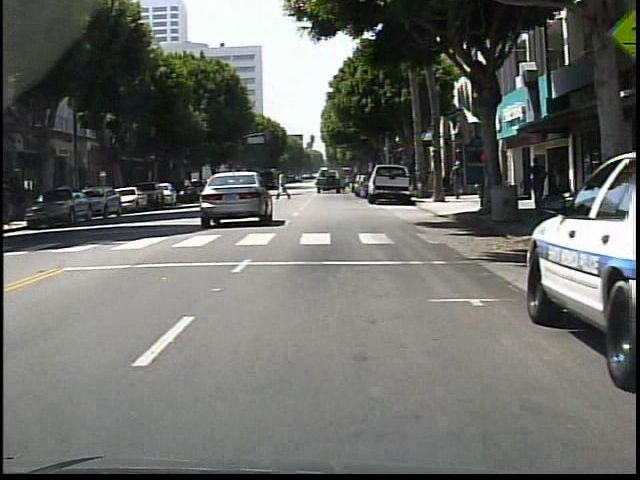person: (524, 155, 548, 218), (551, 152, 571, 220), (452, 158, 468, 200), (277, 171, 293, 200)
